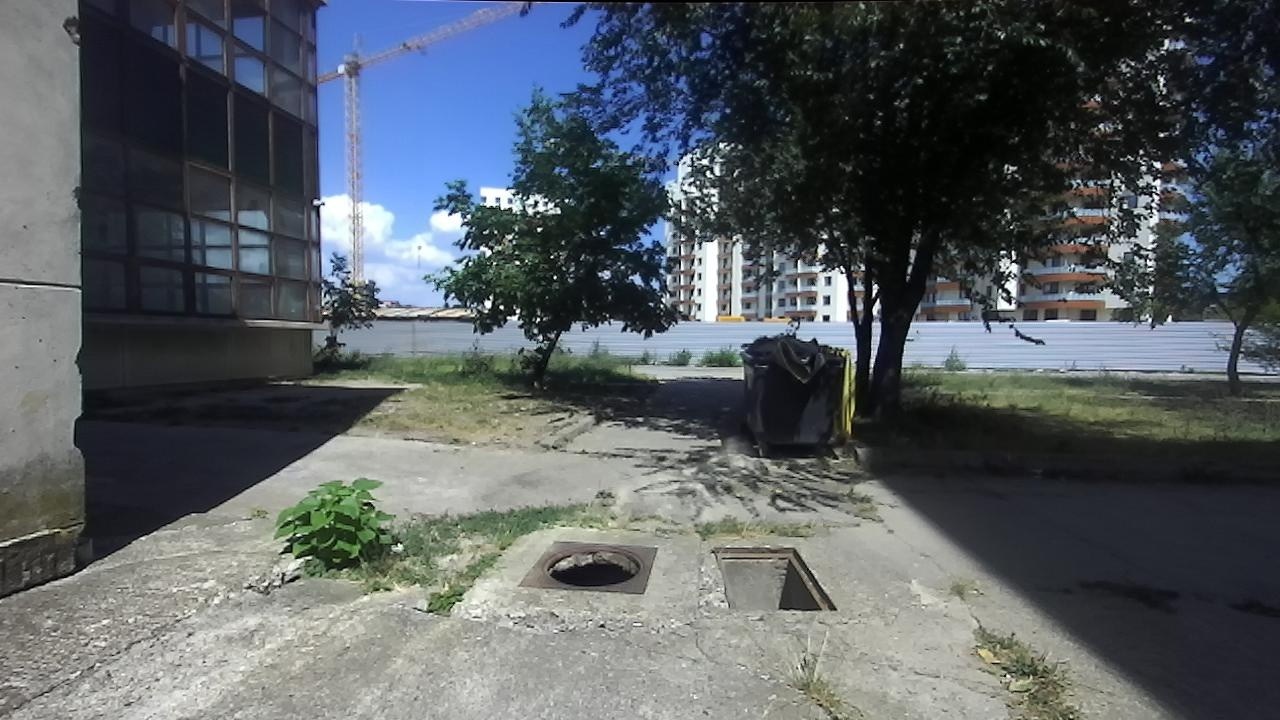drain: (705, 542, 840, 613), (541, 544, 643, 593)
